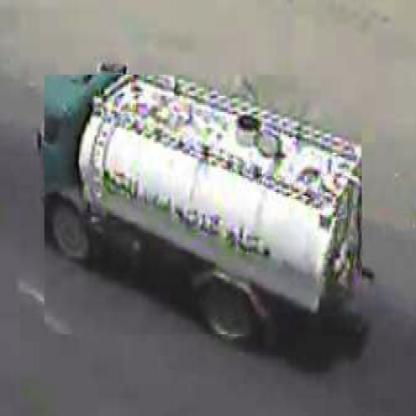truck: (45, 76, 364, 337)
